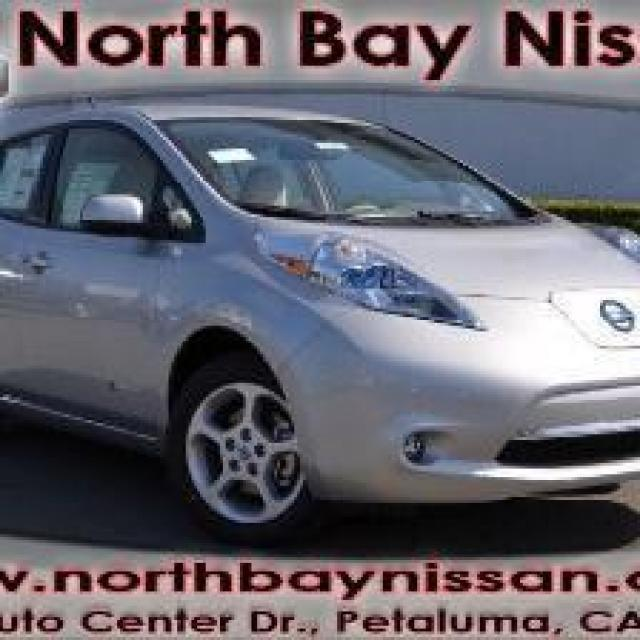damaged: (82, 340, 172, 434)
